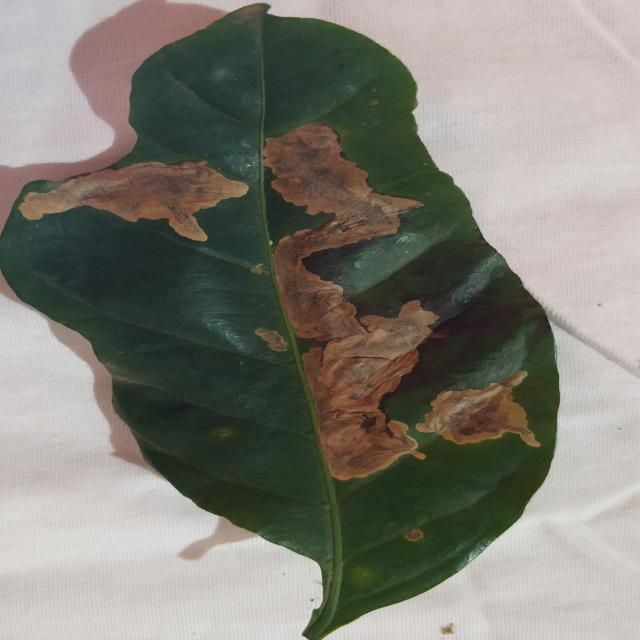Plaga-Minador: (0, 4, 562, 640)
